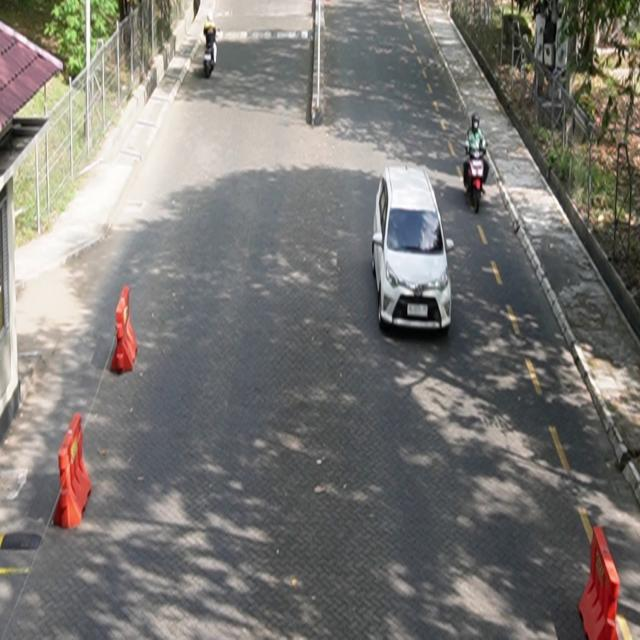car: (372, 163, 455, 334)
